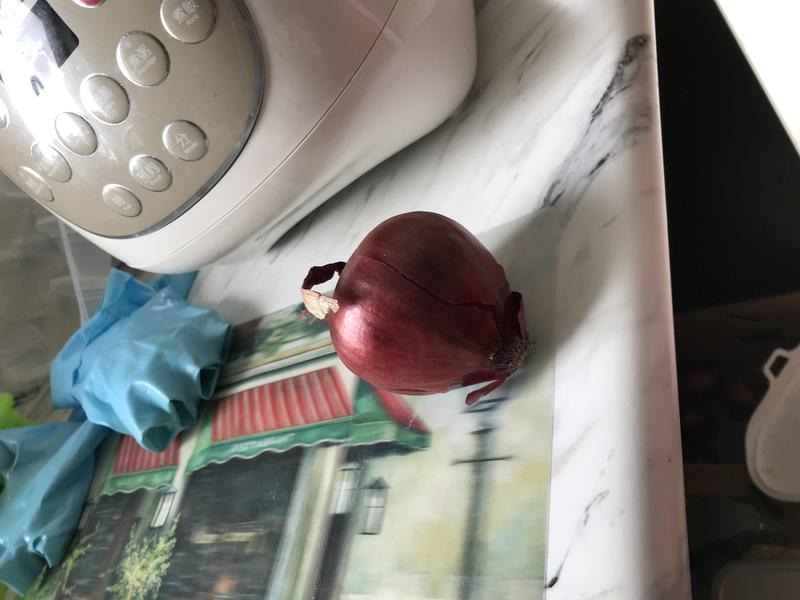purple_onion: (285, 200, 536, 412)
